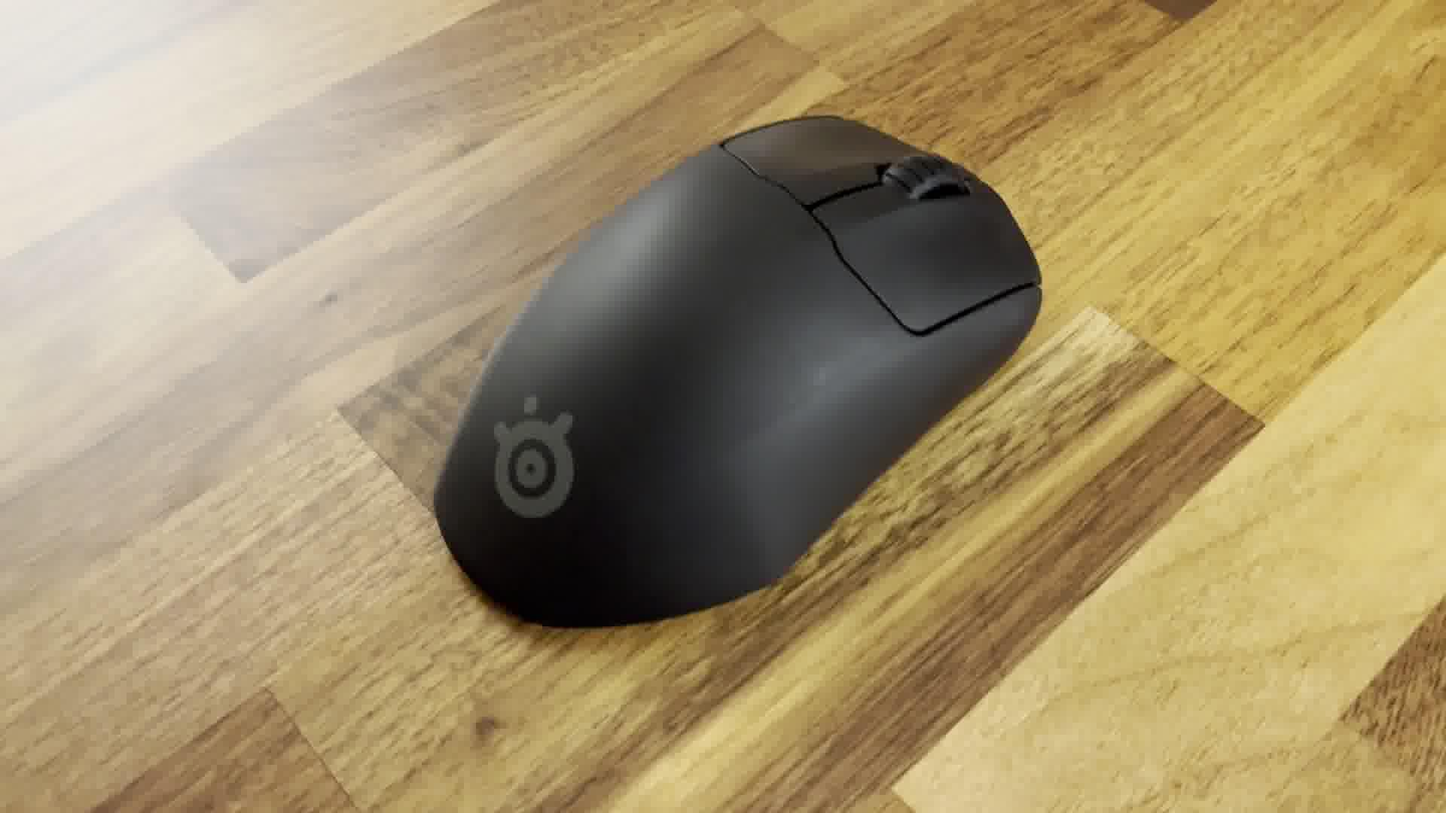steel-series: (428, 105, 1050, 635)
